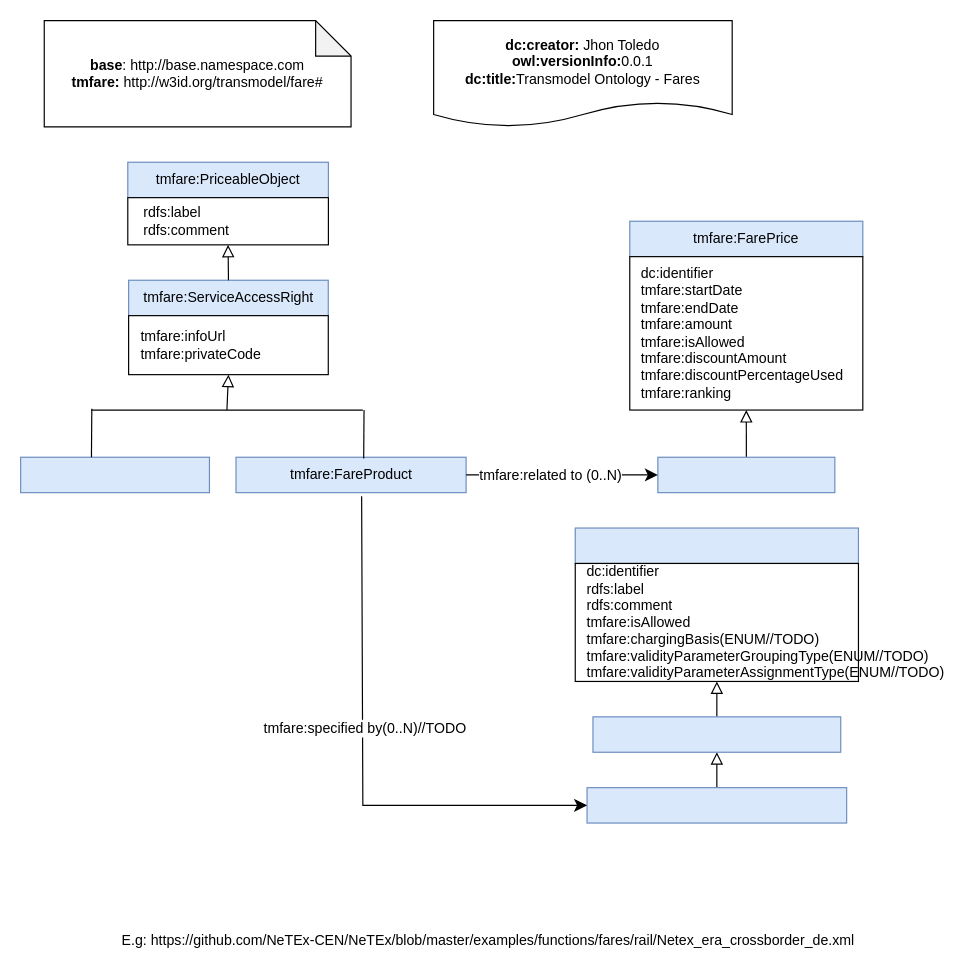
Image size: 965x973. Some labels were removed from this diagram. Here are the shapes that lost their labels. From the top down, the box of each, then its label:
(19, 456, 209, 493): tmfare:EntitlementProduct
(657, 456, 835, 493): tmfare:FareProductPrice
(574, 527, 858, 563): tmfare:AccessRightParameterAssignment
(592, 716, 841, 752): tmfare:ValidityParameterAssignment
(586, 786, 847, 823): tmfare:GenericParameterAssignment
